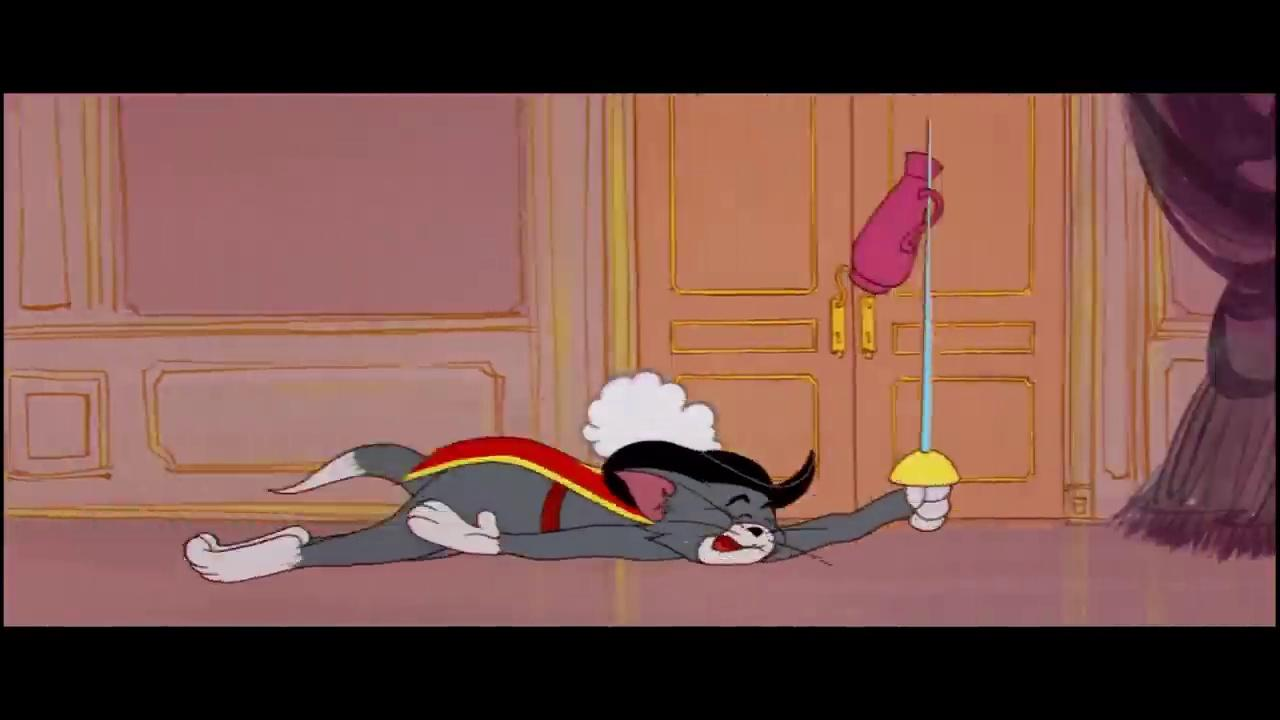Tom: (182, 441, 953, 584)
